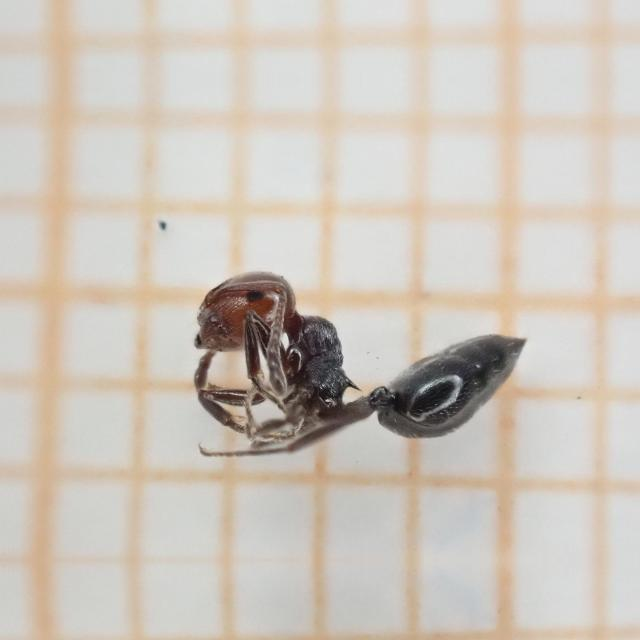Crematogaster: (190, 261, 534, 469)
